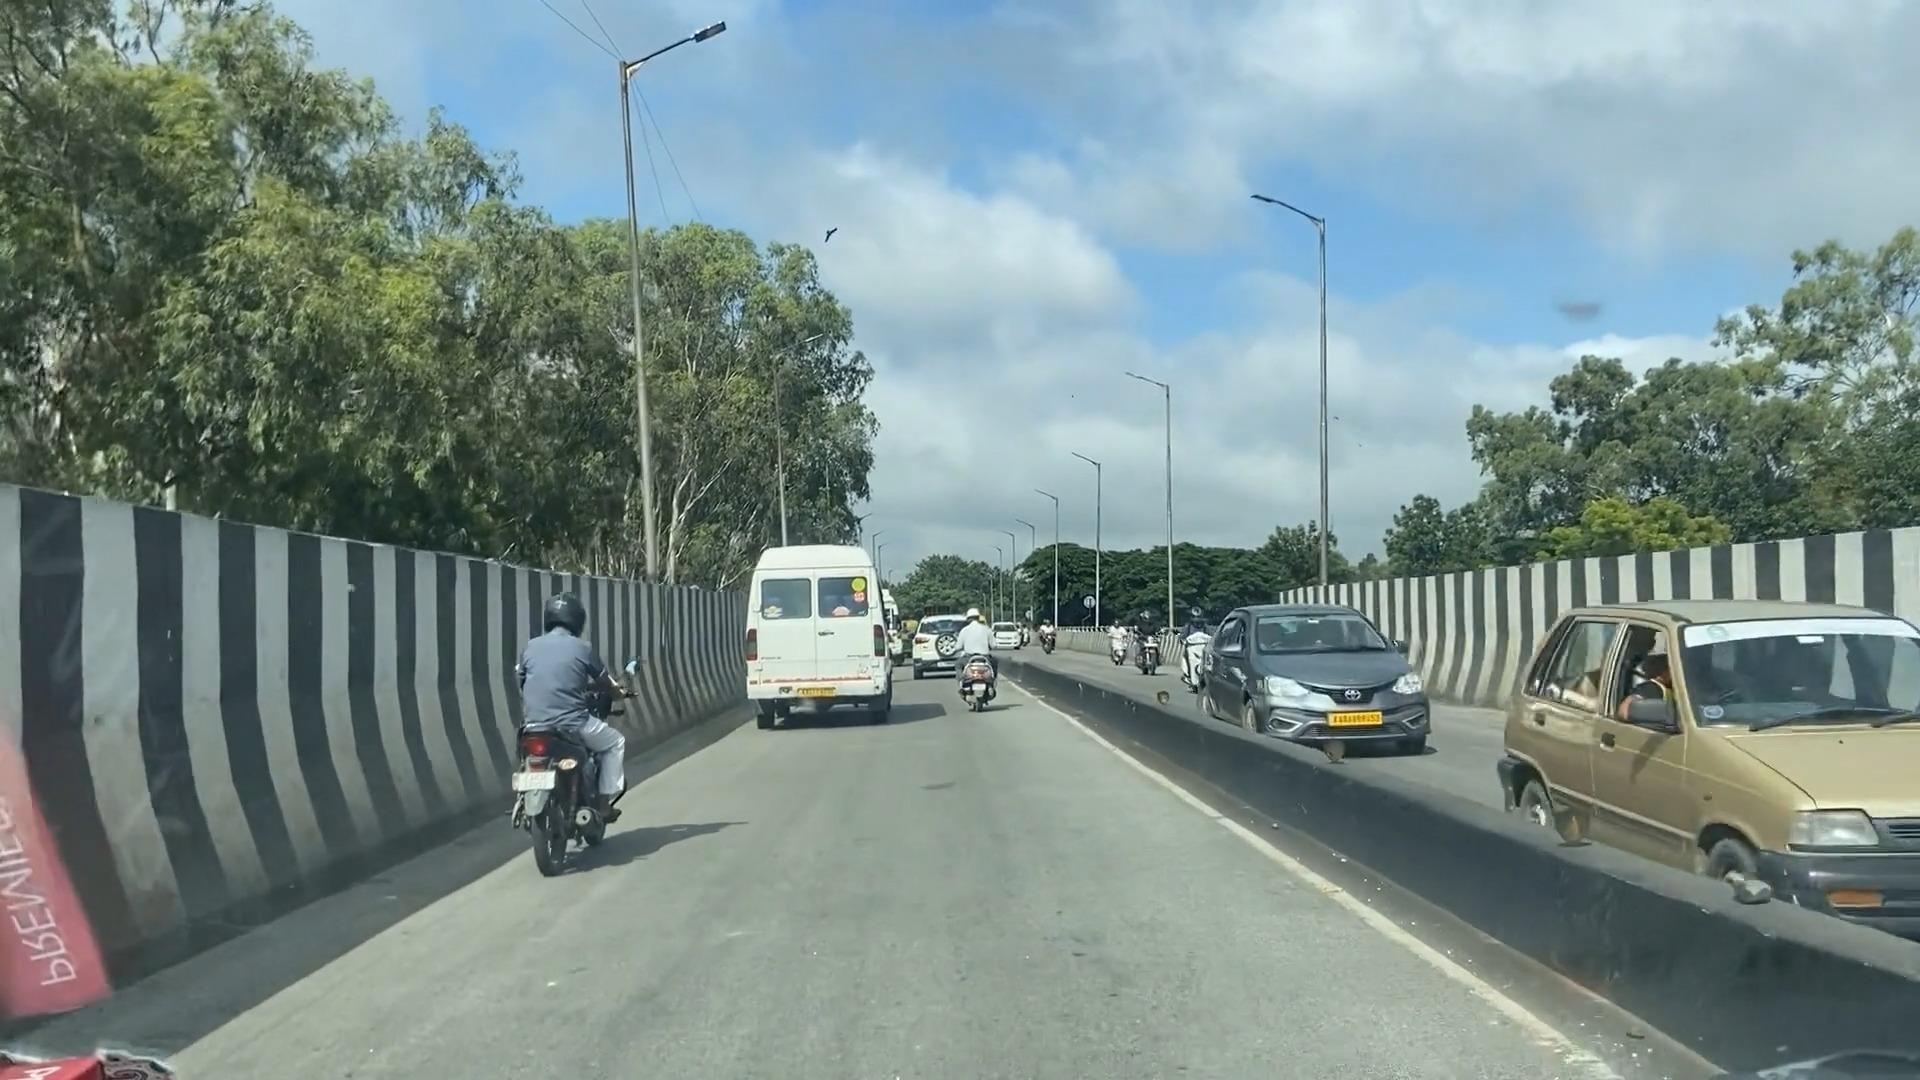HMV: (742, 541, 893, 731)
LMV: (504, 591, 630, 895), (959, 597, 1005, 725)
